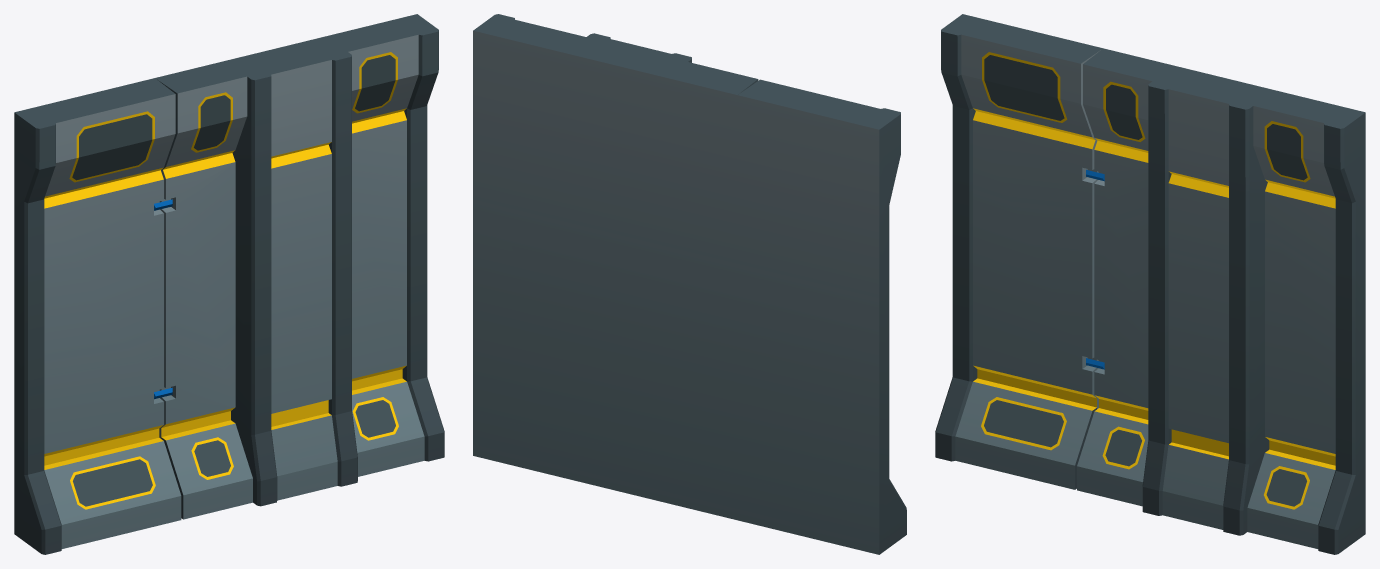
Rendered from Wall_type_C_049.fbx.
The picture shows the model from 3 angles, left to right: view 1: azimuth 30°, elevation 25°; view 2: azimuth 150°, elevation 25°; view 3: azimuth 330°, elevation 25°; orthographic projection.
Visible parts, largest first — view 1: Wall_type_C_049; view 2: Wall_type_C_049; view 3: Wall_type_C_049.
Part boxes in pixels (x1,y1,x2,y2): Wall_type_C_049: (14, 14, 444, 554); Wall_type_C_049: (473, 14, 906, 554); Wall_type_C_049: (935, 14, 1365, 554).
Bounding box in the file's own units: 400 × 57 × 400.
